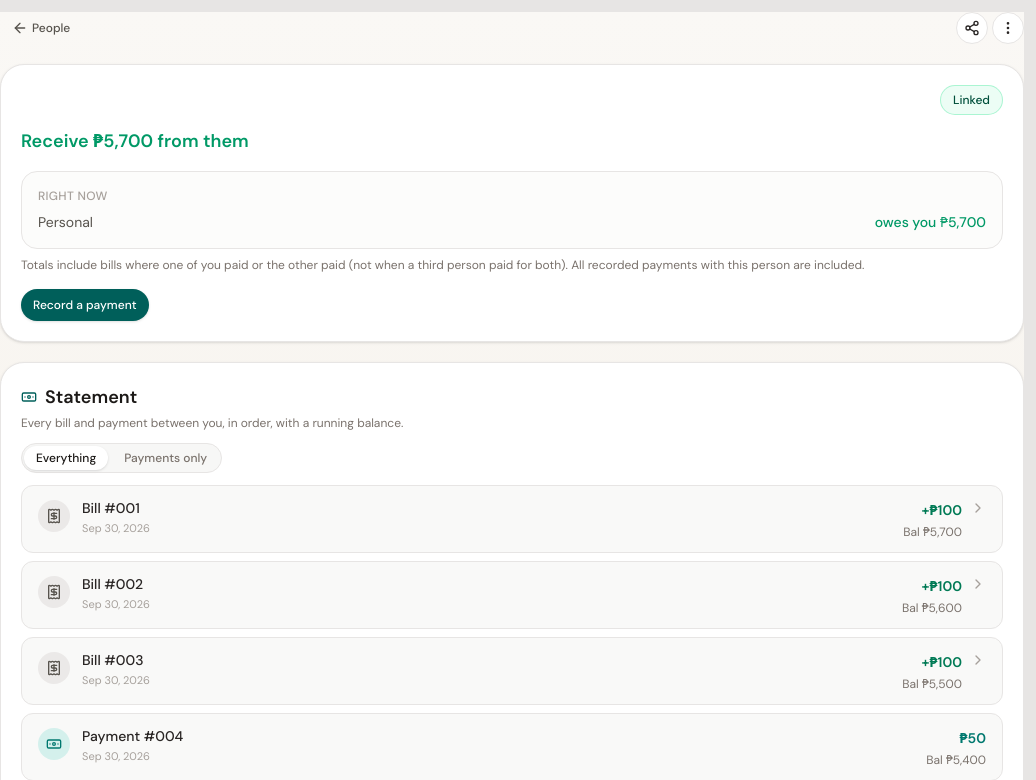
Scenario: PersonDetailPage statement, Payments filter on the server › C12: Payments only fetches the payments first page from the server, no cursor
Step 1. Click the button "Payments only" → (166, 458), box [112, 446, 219, 470]
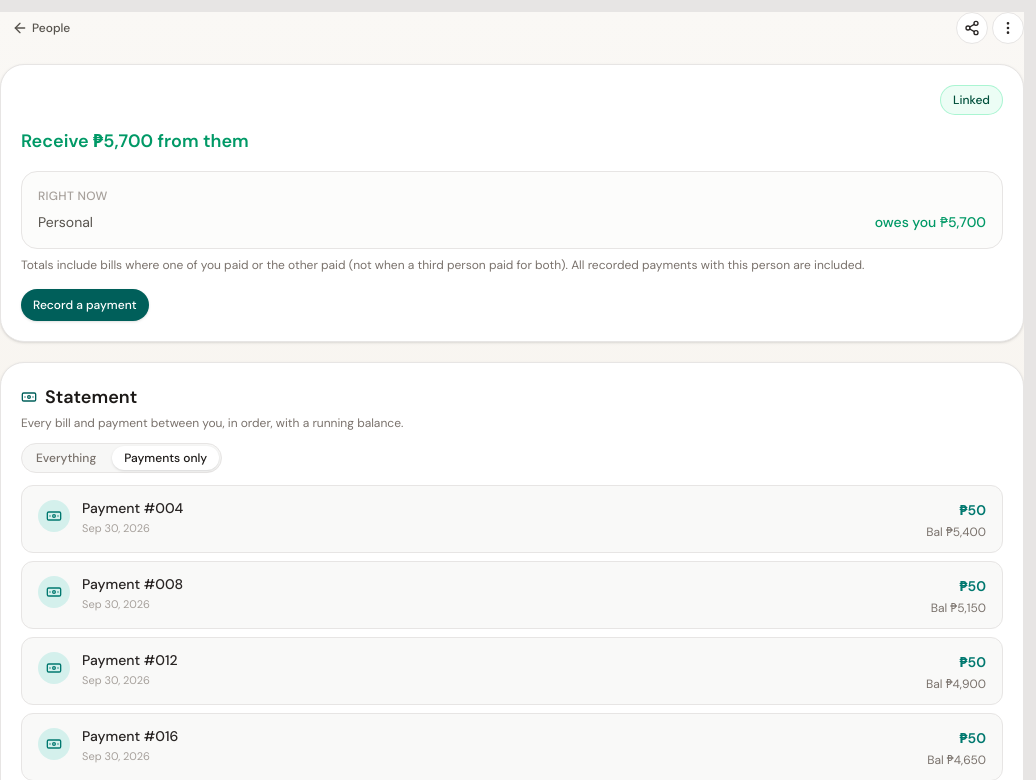
Expected: the text "Payment #004" is shown, [82, 498, 183, 518]
Result: the text "Bill #001" is gone
